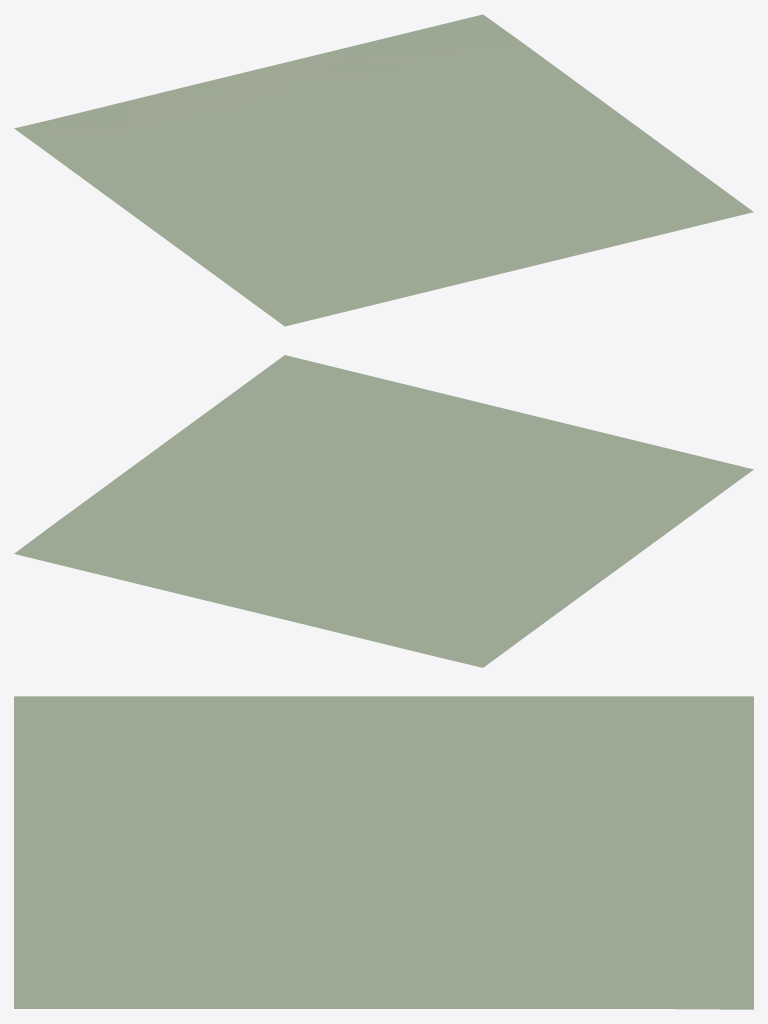
File: SM_MPRR_Terrain_-1_0.fbx
3 renders of one model, top to bottom at view 1: azimuth 30°, elevation 25°; view 2: azimuth 150°, elevation 25°; view 3: azimuth 270°, elevation 25°, orthographic. The views are drawn at different scales.
Parts seen in each view (by area): view 1: SM_MPRR_Terrain_-1_0; view 2: SM_MPRR_Terrain_-1_0; view 3: SM_MPRR_Terrain_-1_0.
Part boxes in pixels (bbox=[...]): SM_MPRR_Terrain_-1_0: bbox=[14, 14, 753, 326]; SM_MPRR_Terrain_-1_0: bbox=[14, 355, 753, 667]; SM_MPRR_Terrain_-1_0: bbox=[14, 696, 753, 1009].
Bounding box in the file's own units: 15000 × 15000 × 18.
